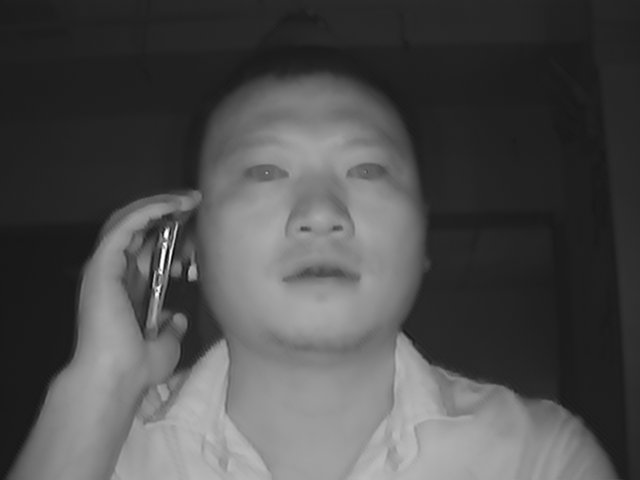hand: (58, 182, 203, 379)
